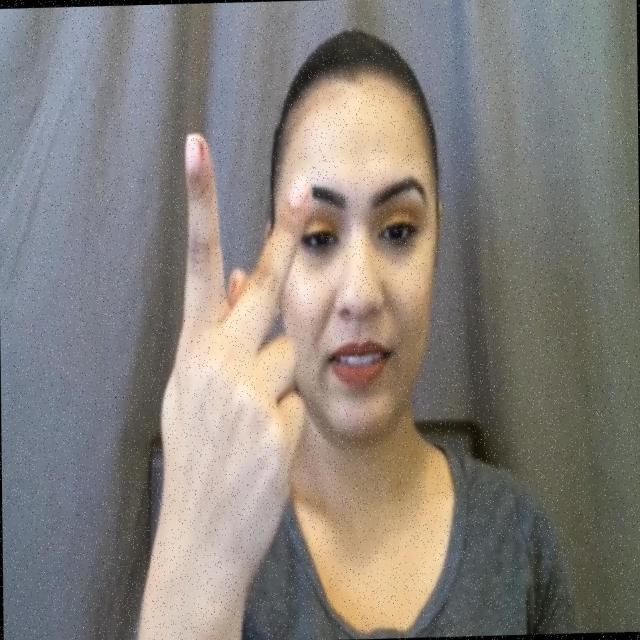K: (152, 117, 316, 585)
